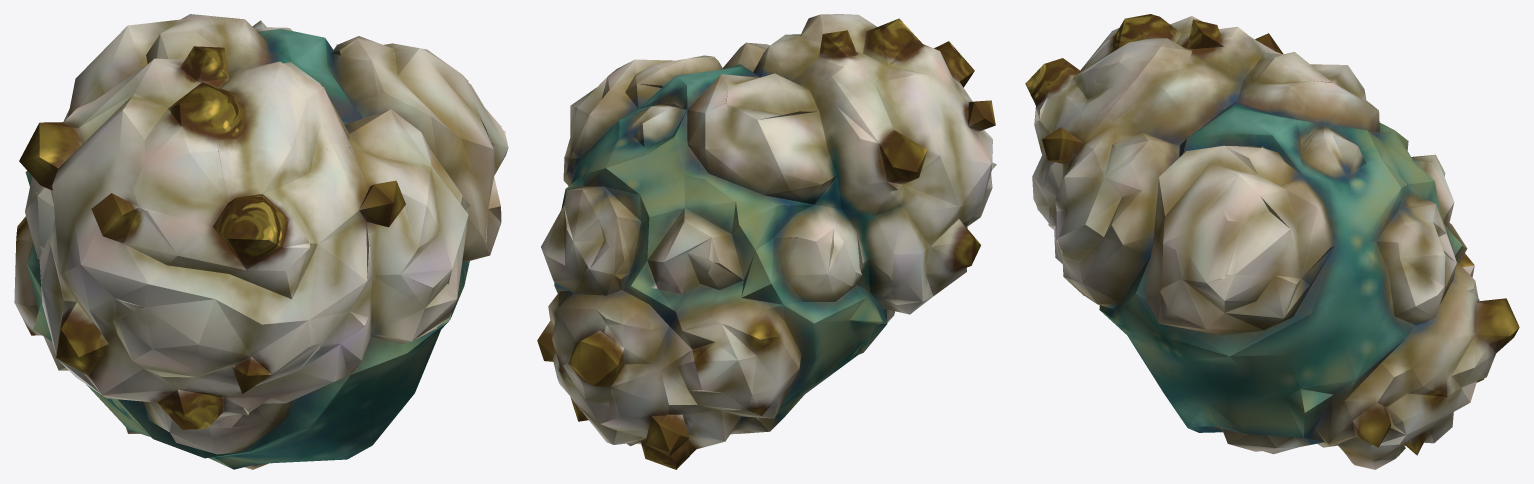
The model's file is chernobog_growth_04.fbx.
The picture shows the model from 3 angles, left to right: view 1: azimuth 30°, elevation 25°; view 2: azimuth 150°, elevation 25°; view 3: azimuth 270°, elevation 25°; orthographic projection. The views are drawn at different scales.
Parts seen in each view (by area): view 1: Chernobog_Growth_04; view 2: Chernobog_Growth_04; view 3: Chernobog_Growth_04.
Part boxes in pixels (x1=…): Chernobog_Growth_04: x1=14, y1=14, x2=508, y2=469; Chernobog_Growth_04: x1=537, y1=14, x2=996, y2=469; Chernobog_Growth_04: x1=1025, y1=14, x2=1519, y2=469.
Size of the model in its own units: 427 by 423 by 481.
